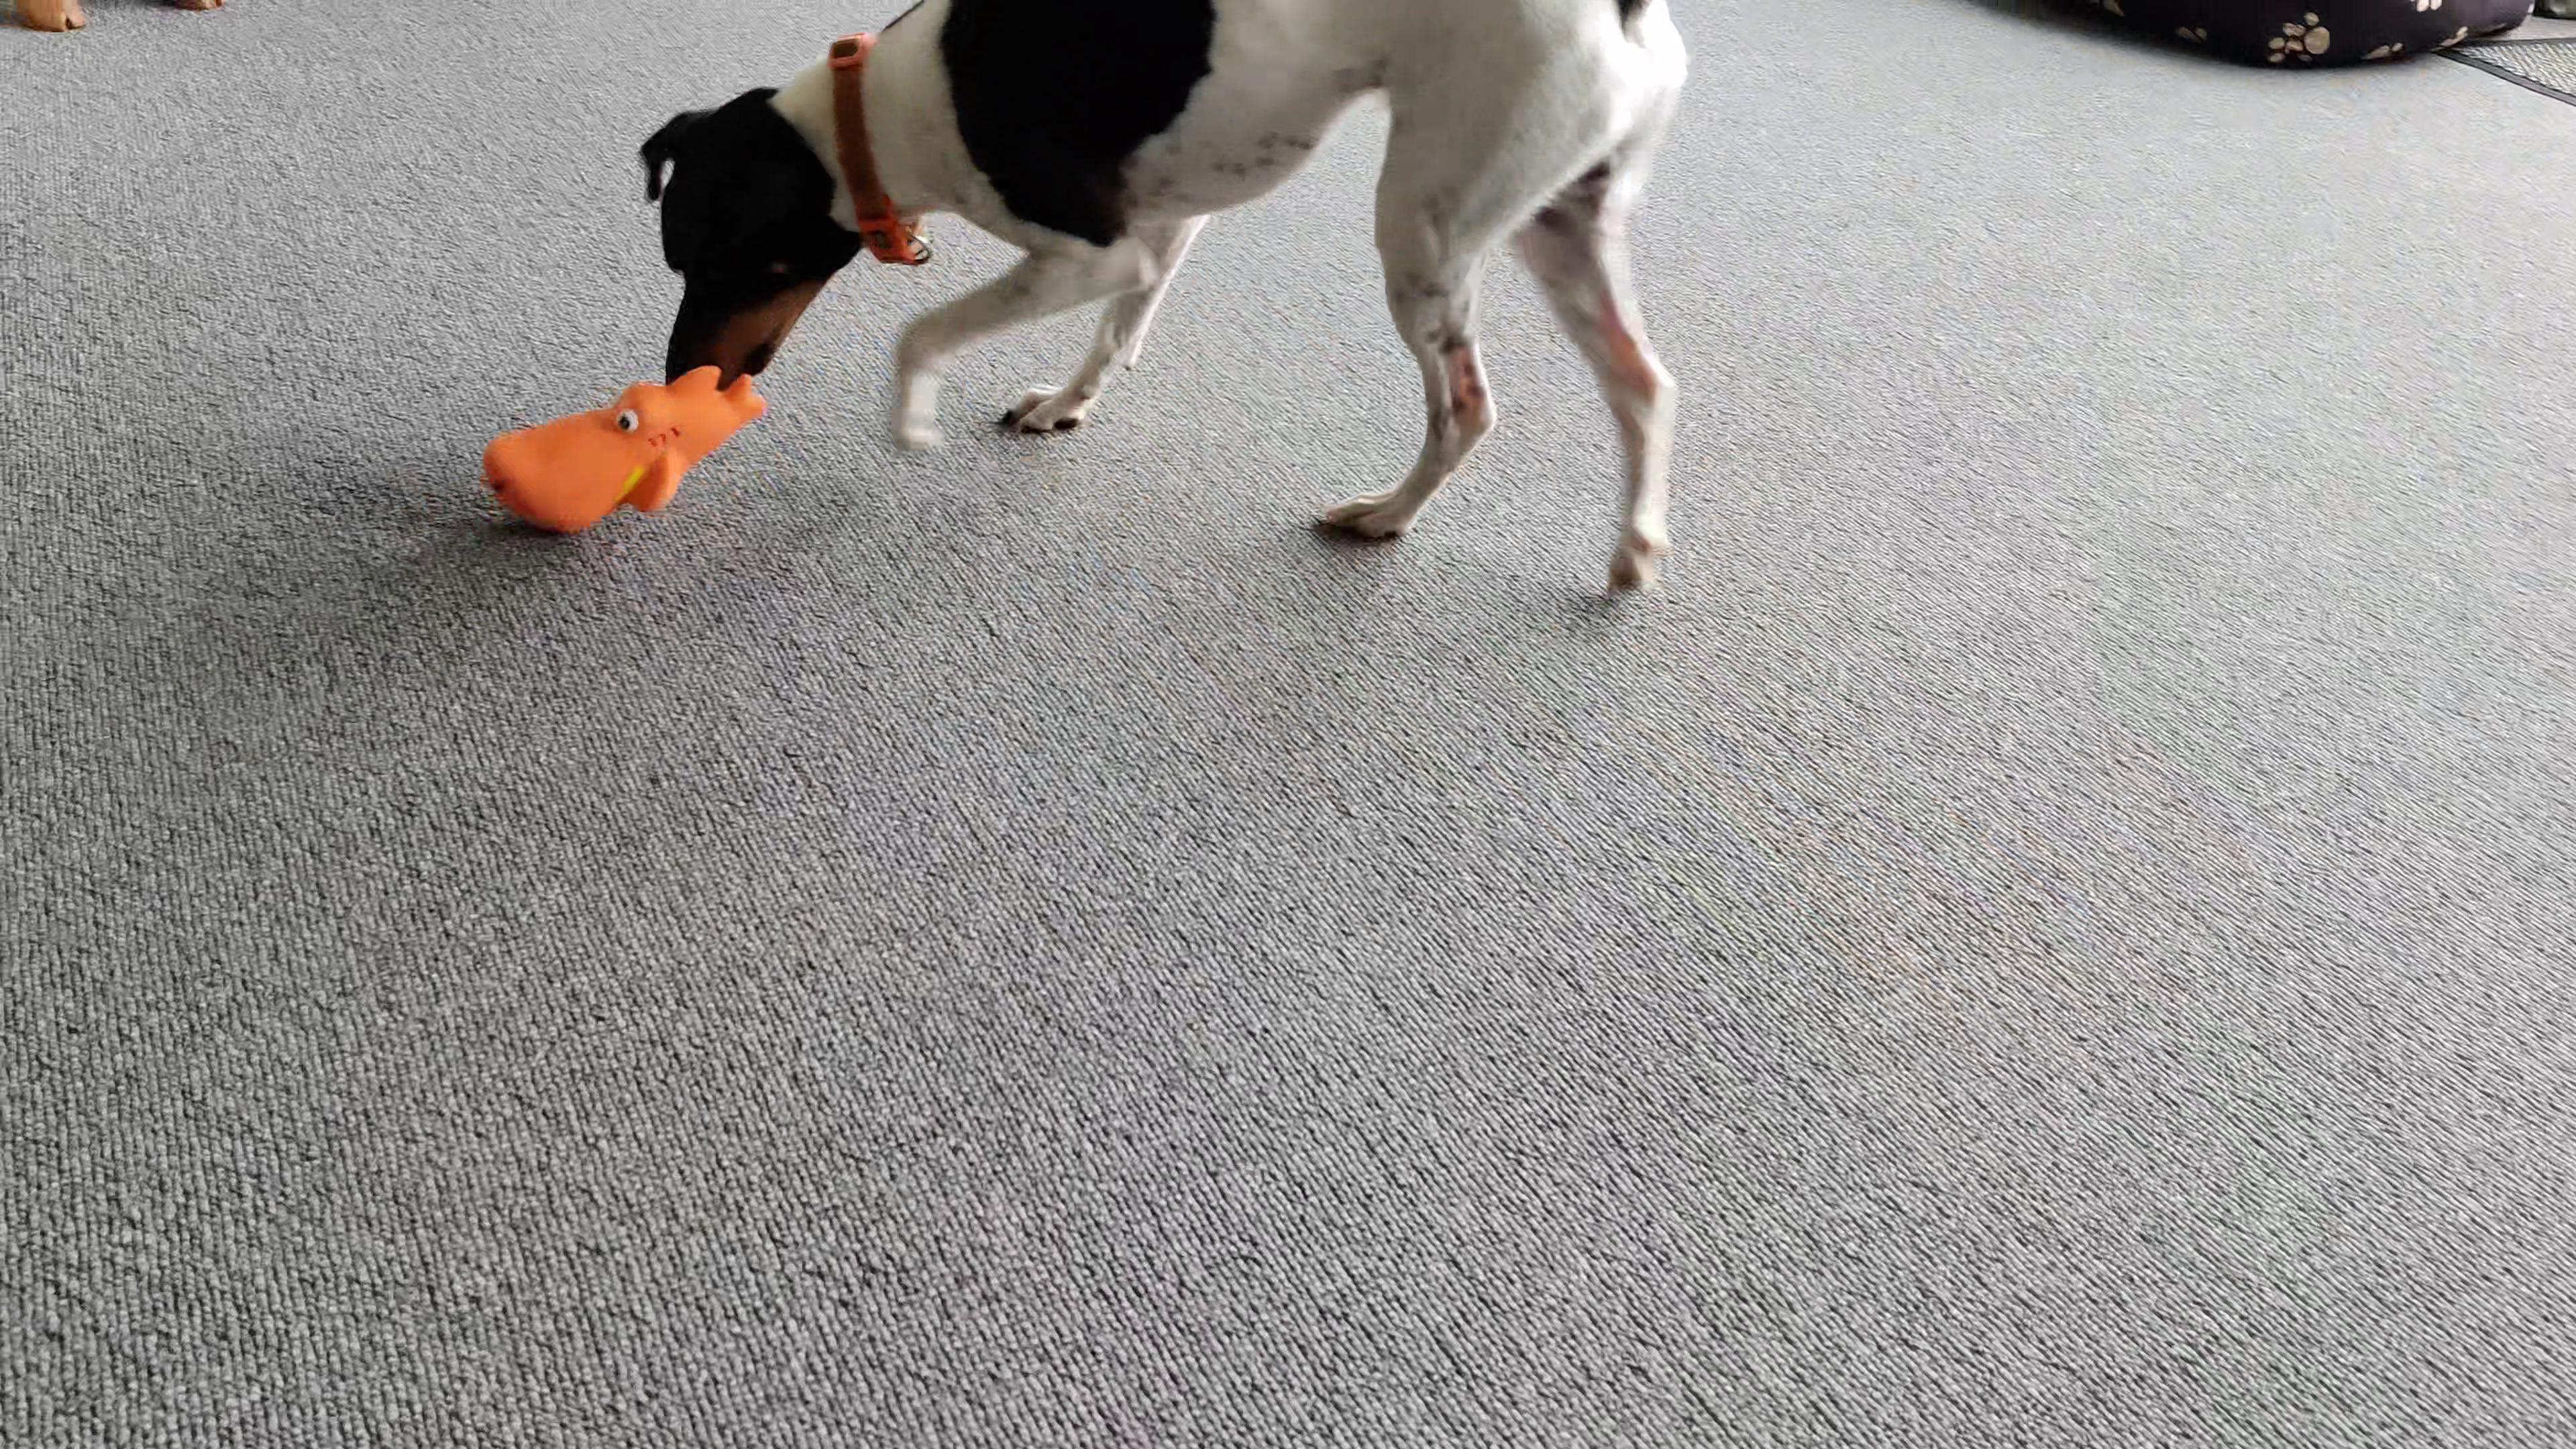Dog: (633, 0, 1697, 612)
